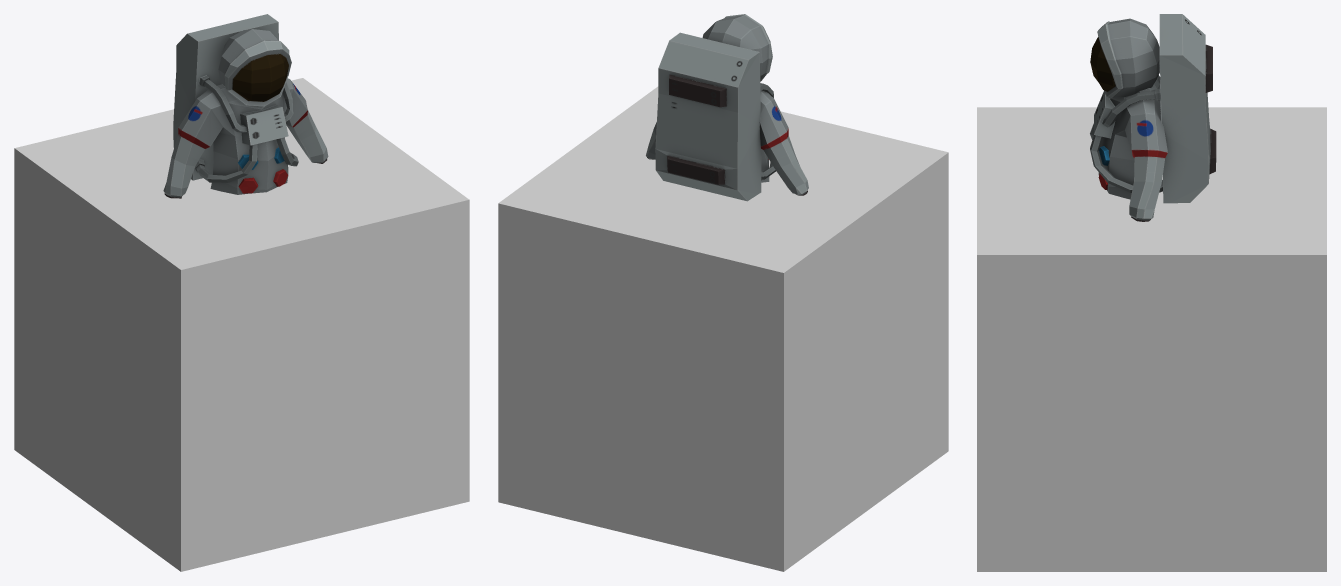
The picture shows the model from 3 angles, left to right: view 1: azimuth 30°, elevation 25°; view 2: azimuth 150°, elevation 25°; view 3: azimuth 270°, elevation 25°; orthographic projection. The views are drawn at different scales.
Parts seen in each view (by area): view 1: Cube.001, node-0.001; view 2: Cube.001, node-0.001; view 3: Cube.001, node-0.001.
Boxes of the visible parts, x1,y1,x2,y2 form: Cube.001: (14,78,469,571); node-0.001: (163,14,328,198); Cube.001: (498,86,948,571); node-0.001: (646,14,808,201); Cube.001: (977,107,1326,571); node-0.001: (1090,14,1216,221).
Size of the model in its own units: 2 by 3.01 by 2.
Materials: 2 (1 with a texture image).
